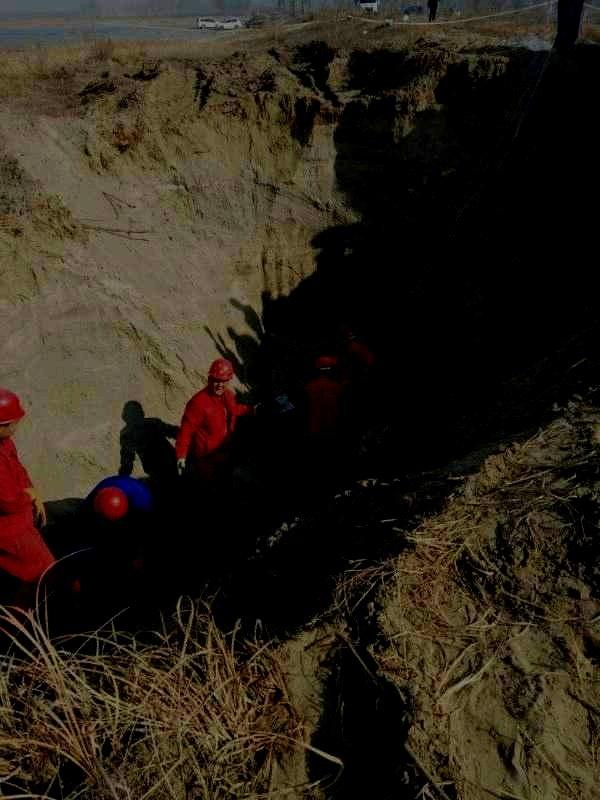helmet: (1, 387, 27, 439), (92, 485, 128, 522), (206, 358, 234, 396), (314, 355, 338, 379)
